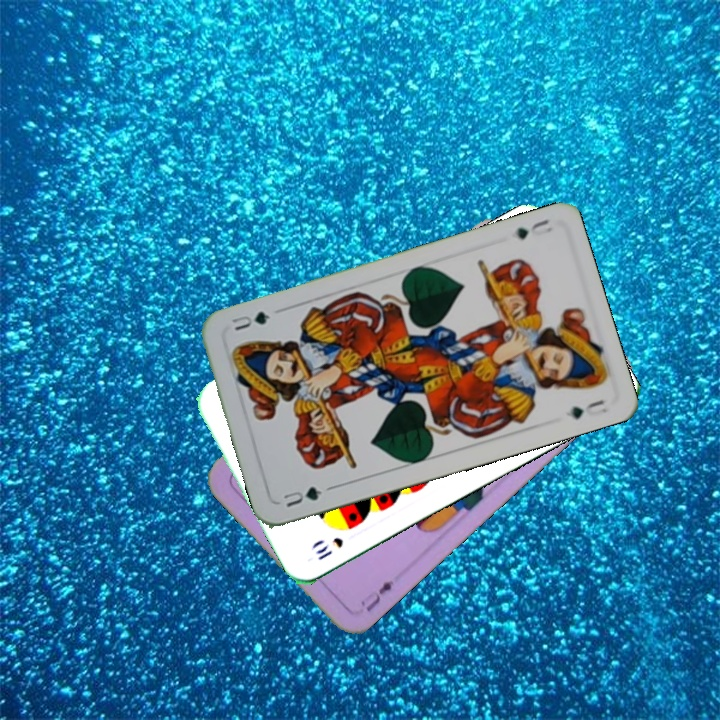EU: (361, 576, 397, 615)
GU: (278, 482, 325, 510), (510, 215, 555, 243)
S10: (311, 533, 346, 563)
